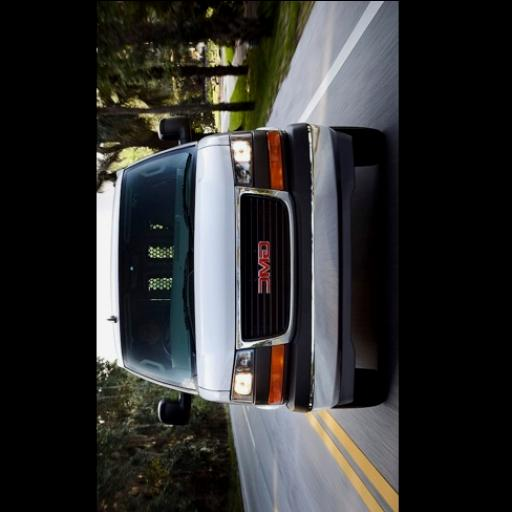van: (109, 114, 384, 423)
